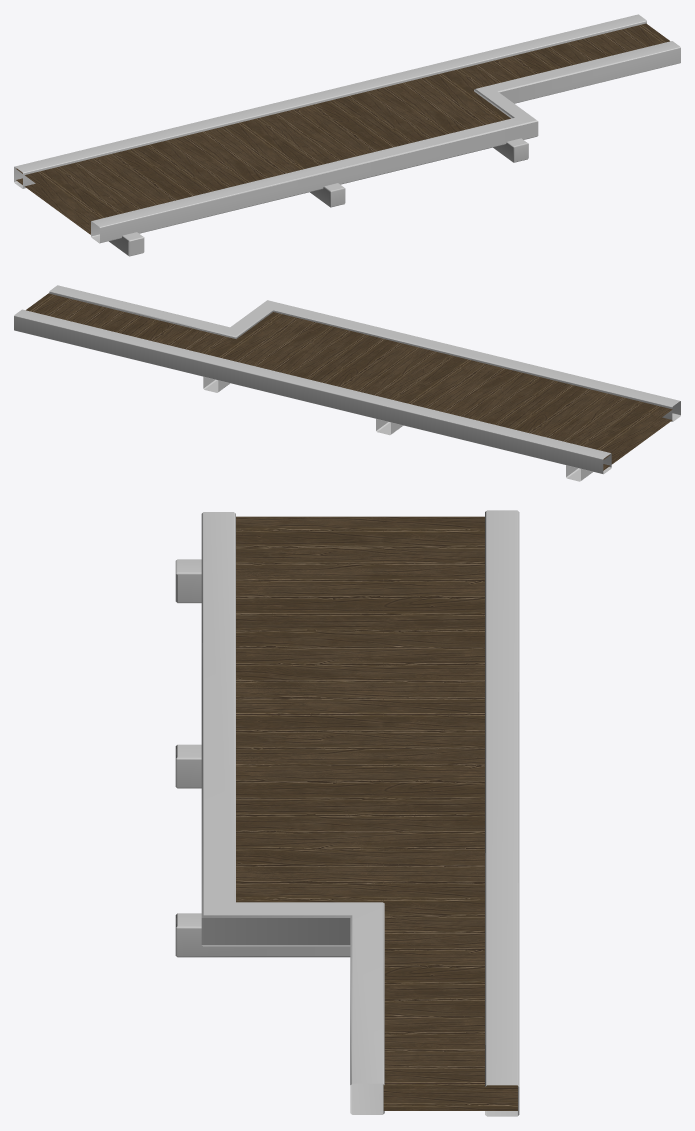
File: SM_WallPiece_03.fbx
3 views of the same model, one above another, from view 1: azimuth 30°, elevation 25°; view 2: azimuth 150°, elevation 25°; view 3: azimuth 270°, elevation 25° (orthographic). The views are drawn at different scales.
Parts seen in each view (by area): view 1: polySurface1; view 2: polySurface1; view 3: polySurface1.
Part boxes in pixels (bbox=[...]): polySurface1: bbox=[14, 14, 680, 256]; polySurface1: bbox=[14, 285, 680, 481]; polySurface1: bbox=[175, 510, 519, 1116].
Bounding box in the file's own units: 869 × 40.25 × 220.
